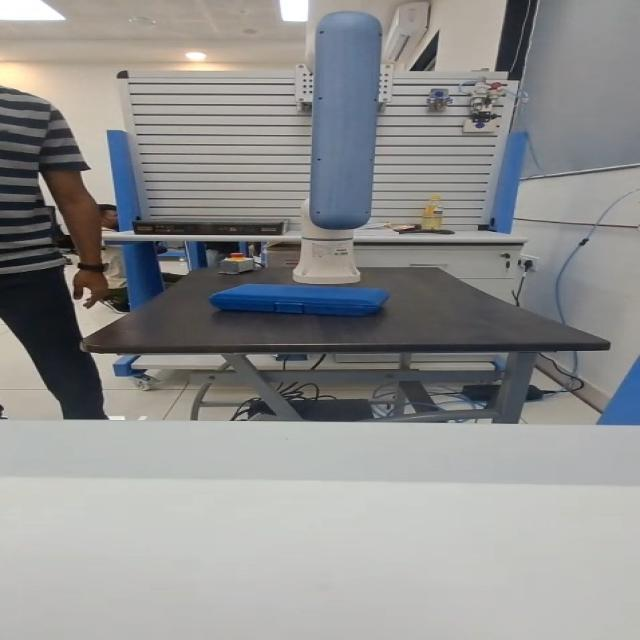top-surface: (227, 285, 375, 298)
